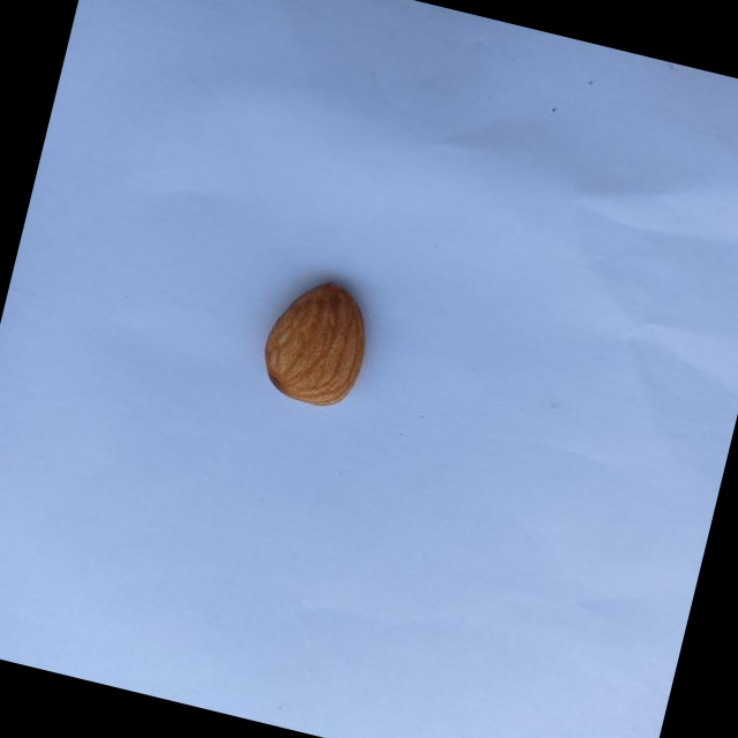grade1: (246, 260, 393, 424)
